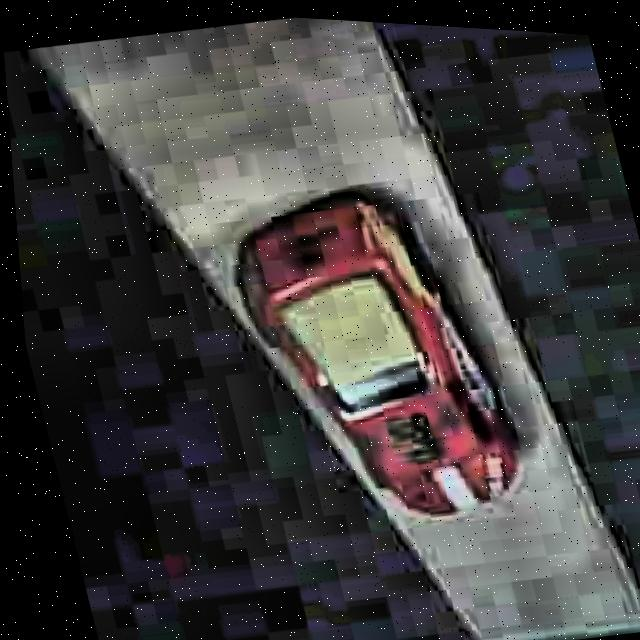car: (211, 160, 541, 552)
